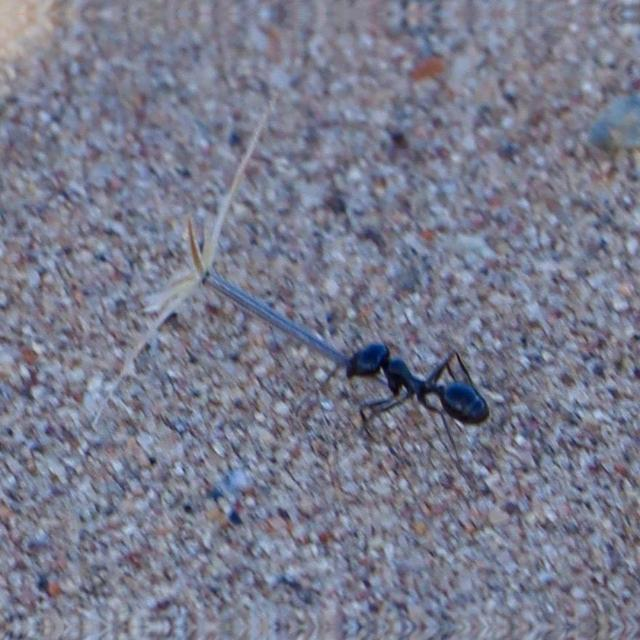Messor: (334, 339, 510, 447)
